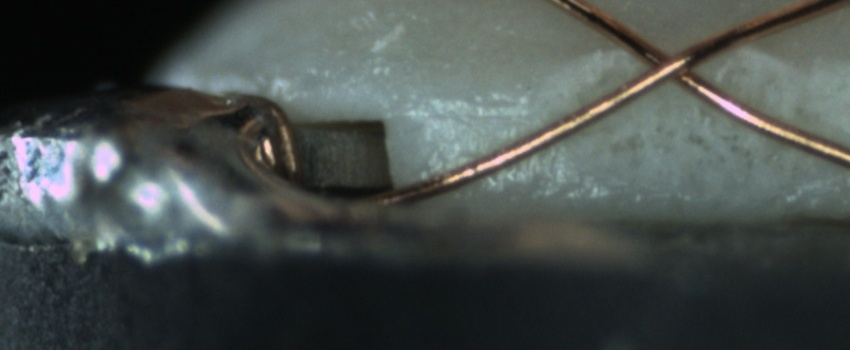CL: (621, 30, 718, 98)
DL: (413, 82, 543, 142)
TE: (245, 91, 313, 198)
